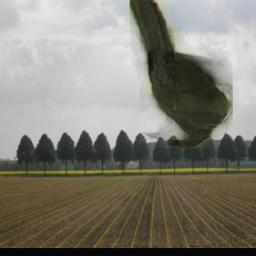Cuckoo: (131, 0, 234, 148)
